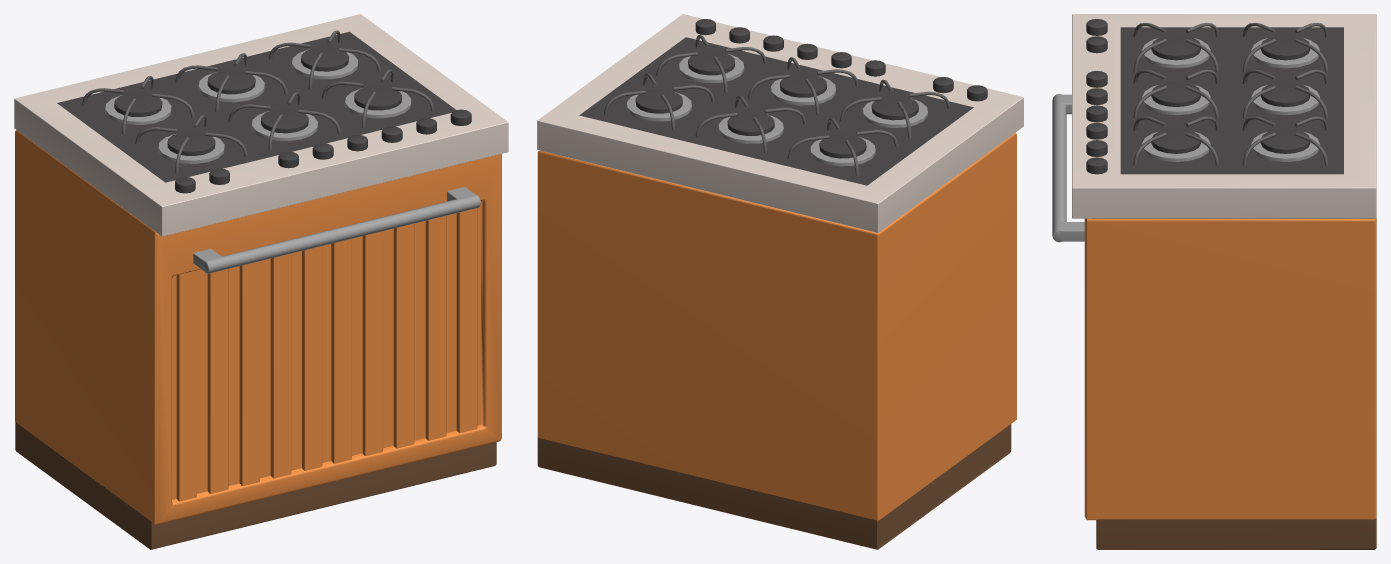
Rendered from Gas_stove1.glb.
3 views of the same model, side by side, from view 1: azimuth 30°, elevation 25°; view 2: azimuth 150°, elevation 25°; view 3: azimuth 270°, elevation 25° (orthographic). The views are drawn at different scales.
Parts seen in each view (by area): view 1: Gas_stove1; view 2: Gas_stove1; view 3: Gas_stove1.
Boxes of the visible parts, <box> form: Gas_stove1: <box>14,14,508,549</box>; Gas_stove1: <box>537,14,1023,549</box>; Gas_stove1: <box>1052,14,1376,549</box>.
Bounding box in the file's own units: 1.01 × 1.03 × 0.7915.
Materials: 1 (1 with a texture image).
